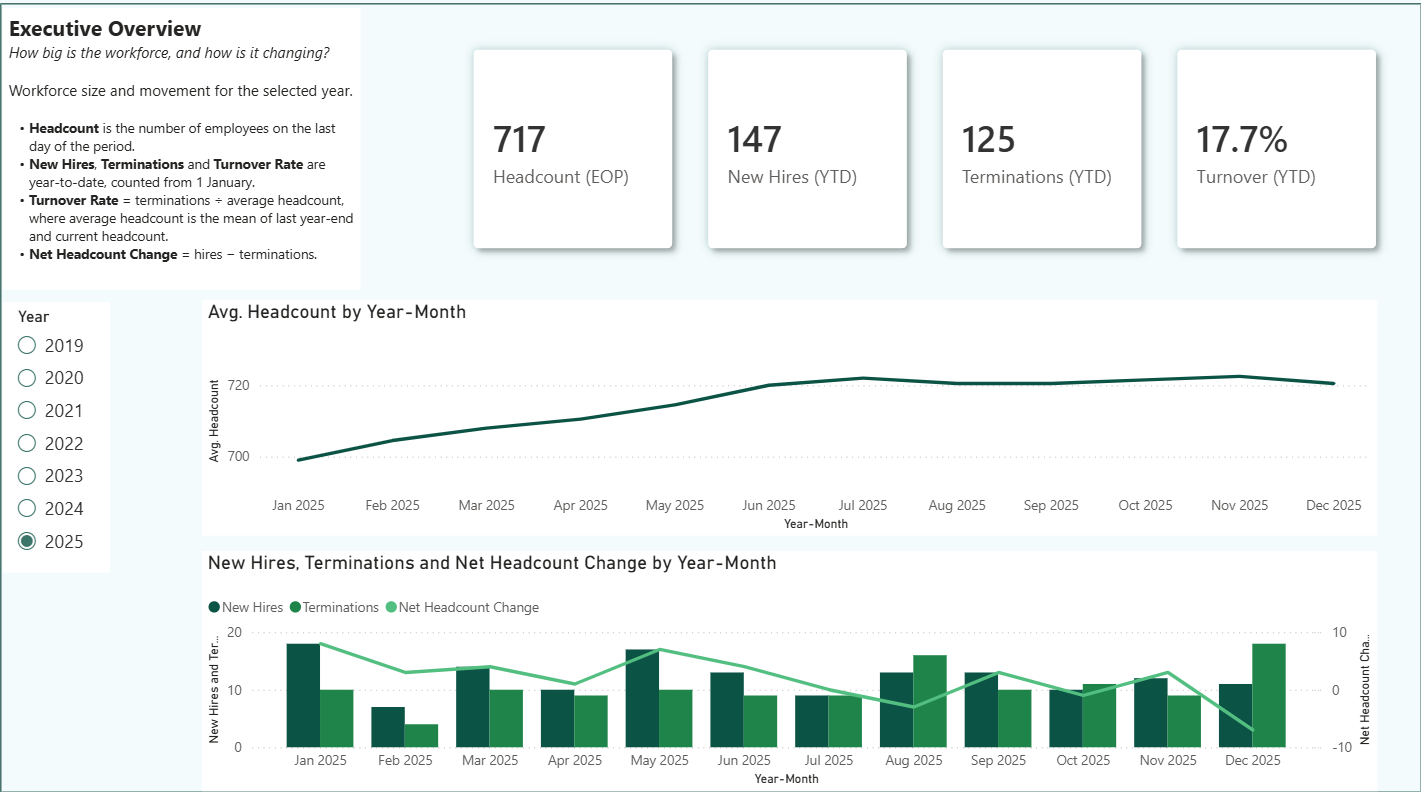

This screenshot's page, from the dashboard's own definition file:
{"tool":"powerbi","page":{"name":"Executive Overview","canvas":[1280,720],"ordinal":0},"visuals":[{"type":"shape","box":[0,0,1280.4,720],"z":0},{"type":"cardVisual","fields":{"Data":["(_Measures).Headcount (EOP)","(_Measures).New Hires (YTD)","(_Measures).Terminations (YTD)","(_Measures).Turnover (YTD)"]},"box":[401,22.4,872.7,234.5],"z":1000},{"type":"lineChart","fields":{"Y":["(_Measures).Avg. Headcount"],"Category":["Calendar.Year-Month"]},"box":[188.9,273.1,1041.9,209.5],"z":2000},{"type":"lineClusteredColumnComboChart","fields":{"Category":["Calendar.Year-Month"],"Y":["(_Measures).New Hires","(_Measures).Terminations"],"Y2":["(_Measures).Net Headcount Change"]},"box":[188.9,495.7,1041.9,213],"z":3000},{"type":"slicer","fields":{"Values":["Calendar.Year"]},"box":[12.4,275,95,240],"z":4000},{"type":"textbox","box":[12.4,14.2,316.9,249.7],"z":5000}]}

Visuals, with their boxes in screenshot pixels (x1, y1, x2, y2), scaled from the page's 1280x720 canvas onto the 1421x792 screenshot:
shape: box(0, 0, 1420, 791)
cardVisual - (_Measures).Headcount (EOP) x (_Measures).New Hires (YTD): box(445, 25, 1414, 283)
lineChart - (_Measures).Avg. Headcount x Calendar.Year-Month: box(210, 300, 1366, 531)
lineClusteredColumnComboChart - Calendar.Year-Month x (_Measures).New Hires: box(210, 545, 1366, 780)
slicer - Calendar.Year: box(14, 302, 119, 566)
textbox: box(14, 16, 366, 290)
